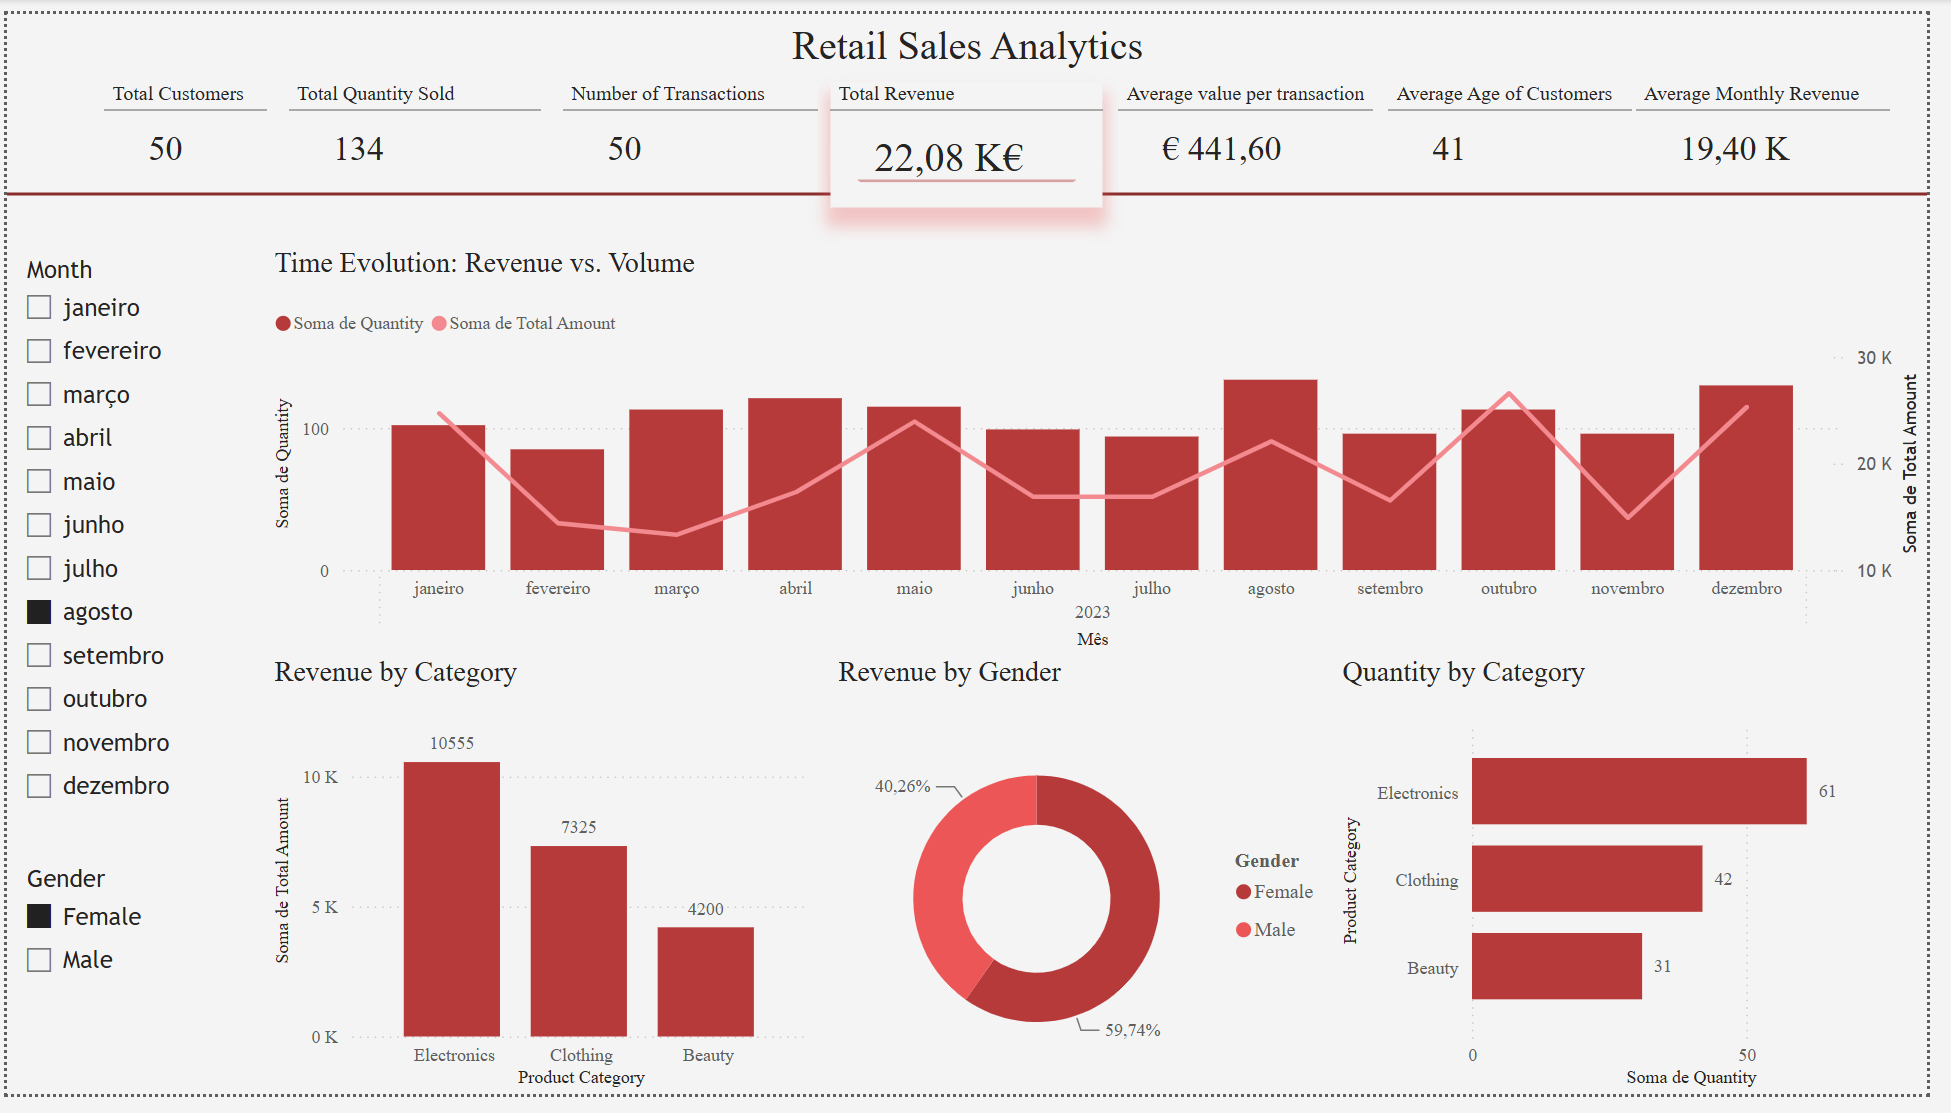

This screenshot's page, from the dashboard's own definition file:
{"tool":"powerbi","page":{"name":"Retail Sales Overview","canvas":[1280,720],"ordinal":0},"visuals":[{"type":"shape","box":[0,45,1280,150],"z":0},{"type":"textbox","box":[0,0,1280,45],"z":1000},{"type":"cardVisual","title":"Total Revenue","fields":{"Data":["Retail_Sale.TotalRevenue"]},"box":[548.8,45,181.2,83.8],"z":2000},{"type":"cardVisual","title":"Total Quantity Sold","fields":{"Data":["Retail_Sale.TotalQuantitySold"]},"box":[187.5,45,168.8,72.5],"z":3000},{"type":"cardVisual","title":"Number of Transactions","fields":{"Data":["Retail_Sale.TotalTransaction"]},"box":[371.2,45,168.8,72.5],"z":4000},{"type":"cardVisual","title":"Average value per transaction","fields":{"Data":["Retail_Sale.AverageTransactionValue"]},"box":[741.2,45,168.8,72.5],"z":5000},{"type":"cardVisual","title":"Average Monthly Revenue","fields":{"Data":["Retail_Sale.AverageMonthlyRevenue"]},"box":[1086.2,45,168.8,72.5],"z":6000},{"type":"cardVisual","title":"Average Age of Customers","fields":{"Data":["Dim_Customer.AverageCustomerAge"]},"box":[921,45,162,73],"z":7000},{"type":"slicer","fields":{"Values":["Dim_Date.Month"]},"box":[0,155,118.8,378.8],"z":8000},{"type":"cardVisual","title":"Total Customers","fields":{"Data":["Dim_Customer.TotalCustomers"]},"box":[65,45,107.5,72.5],"z":9000},{"type":"slicer","fields":{"Values":["Dim_Customer.Gender"]},"box":[0,561.2,118.8,88.8],"z":10000},{"type":"lineStackedColumnComboChart","title":"Time Evolution: Revenue vs. Volume","fields":{"Category":["Dim_Date.Date.Variação.Hierarquia de Datas.Ano","Dim_Date.Date.Variação.Hierarquia de Datas.Mês"],"Y":["Sum(Retail_Sale.Quantity)"],"Y2":["Sum(Retail_Sale.Total Amount)"]},"box":[173,155,1107.5,272.5],"z":11000},{"type":"columnChart","title":"Revenue by Category","fields":{"Category":["Dim_Category.Product Category"],"Y":["Sum(Retail_Sale.Total Amount)"]},"box":[172.5,427.5,367.5,292.5],"z":12000},{"type":"donutChart","title":"Revenue by Genre","fields":{"Category":["Dim_Customer.Gender"],"Y":["Sum(Retail_Sale.Total Amount)"]},"box":[548.8,427.5,336.2,292.5],"z":13000},{"type":"clusteredBarChart","title":"Quantity by Category","fields":{"Category":["Dim_Category.Product Category"],"Y":["Sum(Retail_Sale.Quantity)"]},"box":[885,428,395,292],"z":14000}]}

Visuals, with their boxes in screenshot pixels (x1, y1, x2, y2), scaled from the page's 1280x720 canvas onto the 1951x1113 screenshot:
shape: (0, 70, 1950, 301)
textbox: (0, 0, 1950, 70)
"Total Revenue" cardVisual: (836, 70, 1113, 199)
"Total Quantity Sold" cardVisual: (286, 70, 543, 182)
"Number of Transactions" cardVisual: (566, 70, 823, 182)
"Average value per transaction" cardVisual: (1130, 70, 1387, 182)
"Average Monthly Revenue" cardVisual: (1656, 70, 1913, 182)
"Average Age of Customers" cardVisual: (1404, 70, 1651, 182)
slicer - Dim_Date.Month: (0, 240, 181, 825)
"Total Customers" cardVisual: (99, 70, 263, 182)
slicer - Dim_Customer.Gender: (0, 868, 181, 1005)
"Time Evolution: Revenue vs. Volume" lineStackedColumnComboChart: (264, 240, 1950, 661)
"Revenue by Category" columnChart: (263, 661, 823, 1112)
"Revenue by Genre" donutChart: (836, 661, 1349, 1112)
"Quantity by Category" clusteredBarChart: (1349, 662, 1950, 1112)
